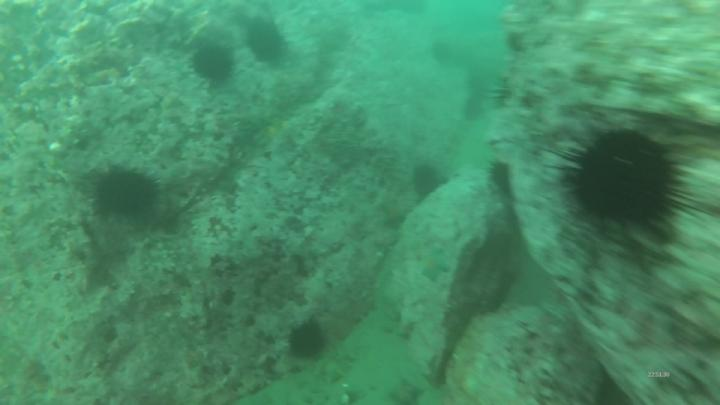echinus: (577, 132, 676, 227), (99, 173, 159, 223), (246, 21, 286, 65), (288, 323, 328, 361), (194, 48, 232, 82), (412, 167, 439, 195)
starfish: (422, 252, 452, 278), (392, 383, 423, 405)
